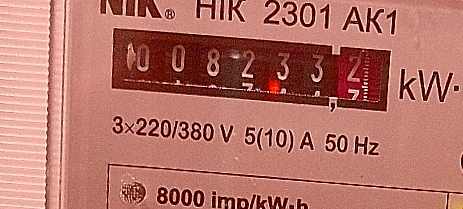0: (131, 40, 153, 73), (167, 41, 188, 74)
2: (236, 46, 258, 80), (344, 51, 364, 84)
3: (272, 49, 292, 81), (308, 50, 327, 83)
8: (202, 44, 222, 77)
screen: (97, 15, 403, 120)
